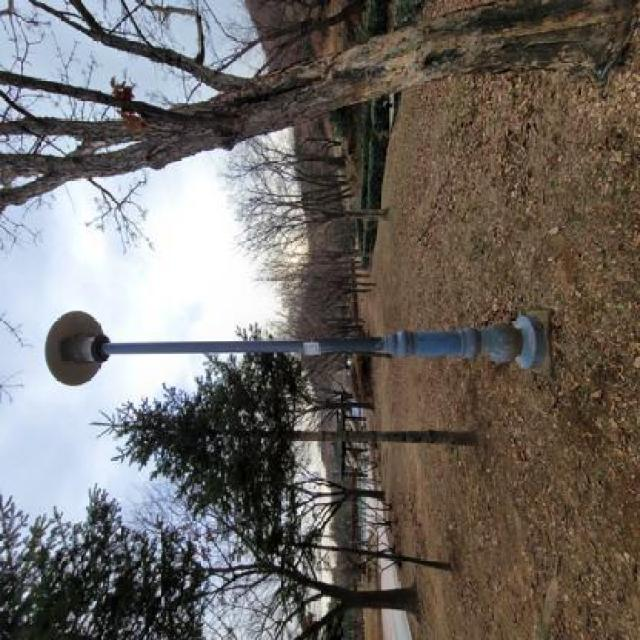pole: (34, 292, 566, 403)
